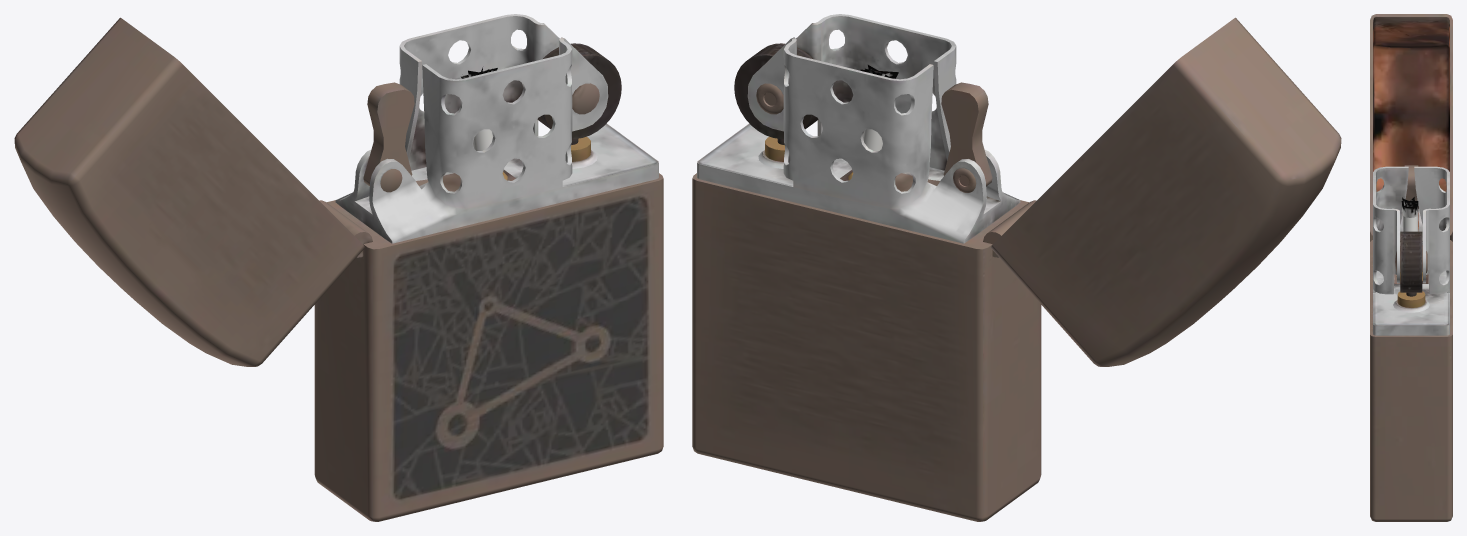
File: lighter.glb
3 views of the same model, side by side, from view 1: azimuth 30°, elevation 25°; view 2: azimuth 150°, elevation 25°; view 3: azimuth 270°, elevation 25° (orthographic). The views are drawn at different scales.
Parts seen in each view (by area): view 1: vintage_lighter_body; view 2: vintage_lighter_body; view 3: vintage_lighter_body.
Boxes of the visible parts, x1,y1,x2,y2 form: vintage_lighter_body: (14, 14, 663, 521); vintage_lighter_body: (692, 14, 1341, 521); vintage_lighter_body: (1370, 14, 1452, 521).
Size of the model in its own units: 0.0796 by 0.065 by 0.014.
2 materials, 2 textured.
